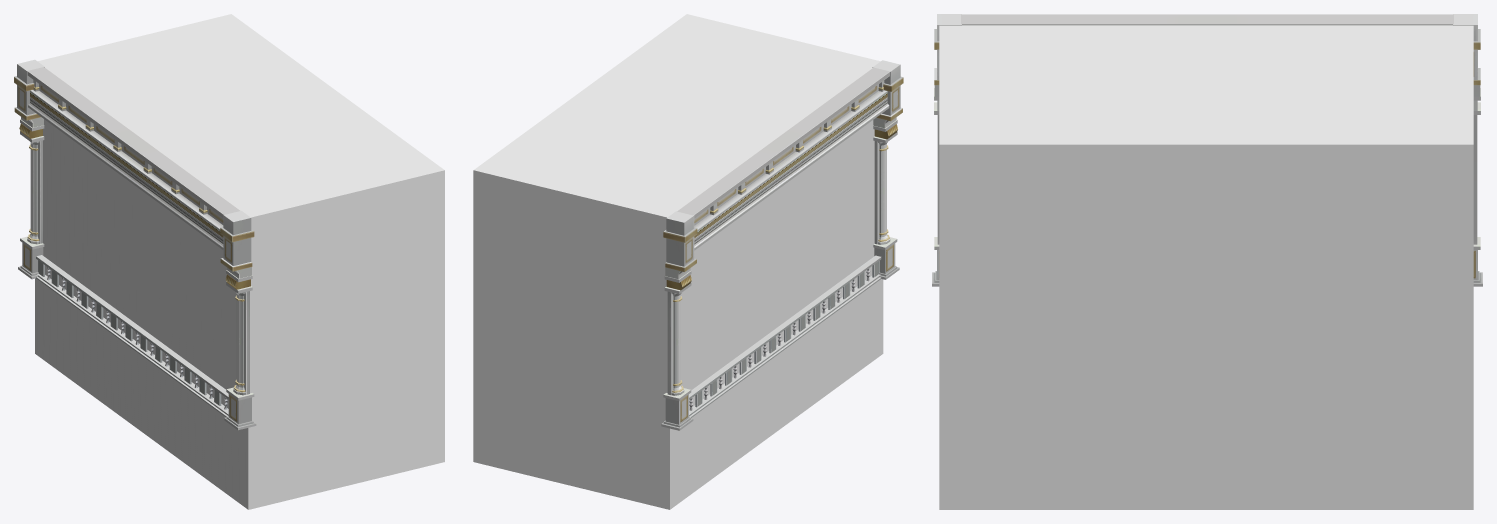
File: my_teaparty_01_window_02.glb
The picture shows the model from 3 angles, left to right: view 1: azimuth 30°, elevation 25°; view 2: azimuth 150°, elevation 25°; view 3: azimuth 270°, elevation 25°; orthographic projection. The views are drawn at different scales.
Visible parts, largest first — view 1: my_teaparty_01_window_02_cover, my_teaparty_01_window_02; view 2: my_teaparty_01_window_02_cover, my_teaparty_01_window_02; view 3: my_teaparty_01_window_02_cover, my_teaparty_01_window_02.
Boxes of the visible parts, x1,y1,x2,y2 form: my_teaparty_01_window_02_cover: (35,14,444,509); my_teaparty_01_window_02: (14,59,256,430); my_teaparty_01_window_02_cover: (473,14,883,509); my_teaparty_01_window_02: (661,60,903,430); my_teaparty_01_window_02_cover: (939,25,1473,509); my_teaparty_01_window_02: (932,14,1482,286).
Bounding box in the file's own units: 0.0489 × 0.0637 × 0.0868.
5 materials, 3 textured.
